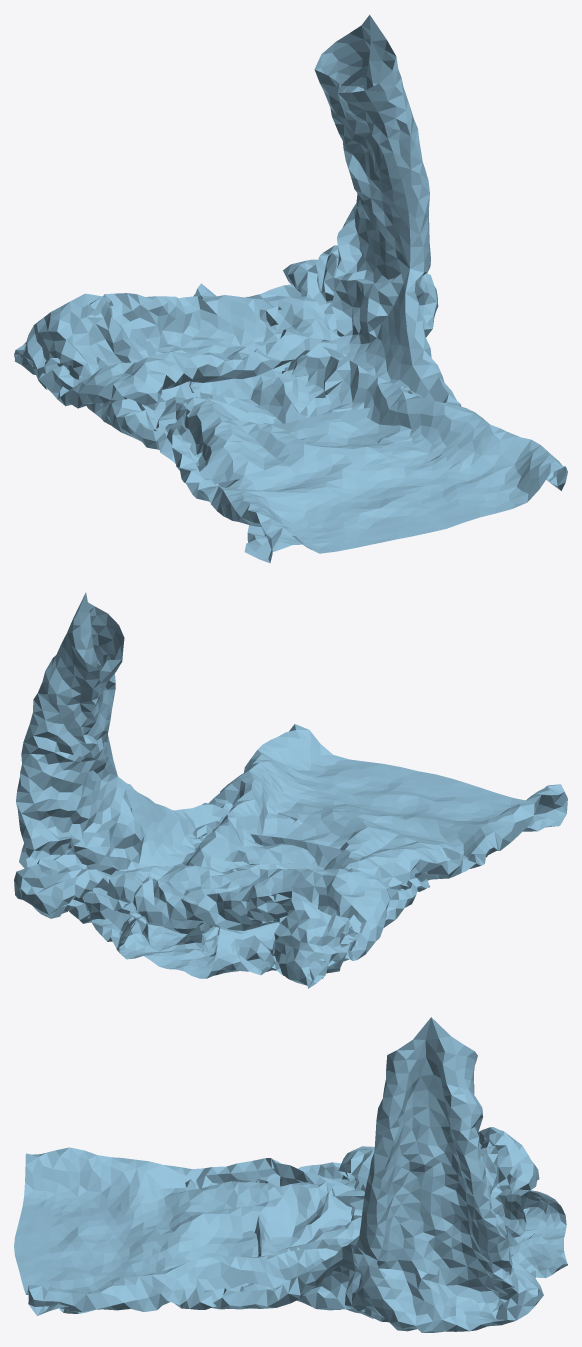
Rendered from frame_09.glb.
3 views of the same model, one above another, from view 1: azimuth 30°, elevation 25°; view 2: azimuth 150°, elevation 25°; view 3: azimuth 270°, elevation 25° (orthographic). The views are drawn at different scales.
Parts seen in each view (by area): view 1: frame_09.obj; view 2: frame_09.obj; view 3: frame_09.obj.
Part boxes in pixels (bbox=[...]): frame_09.obj: bbox=[14, 14, 567, 563]; frame_09.obj: bbox=[14, 592, 567, 988]; frame_09.obj: bbox=[14, 1017, 567, 1332].
Bounding box in the file's own units: 1.05 × 0.8857 × 1.43.
